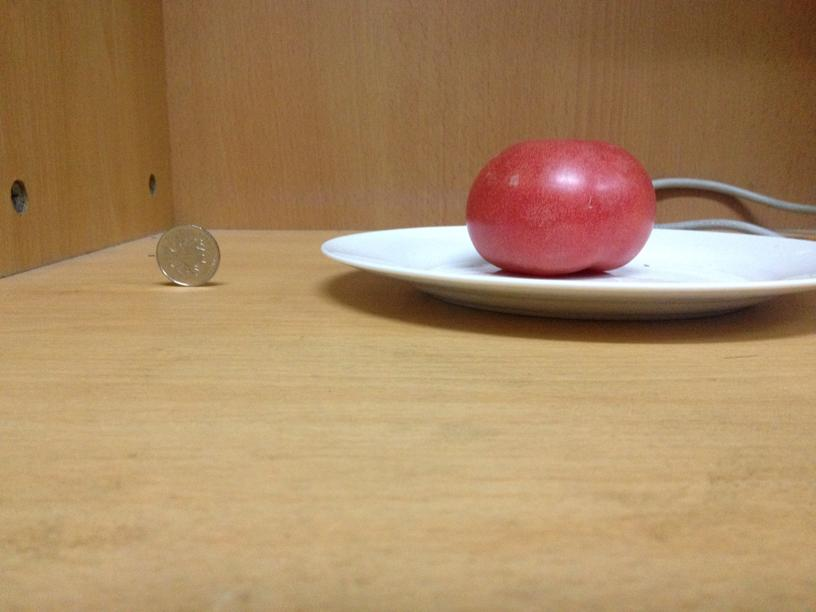coin: (148, 224, 227, 291)
tomato: (459, 140, 657, 271)
